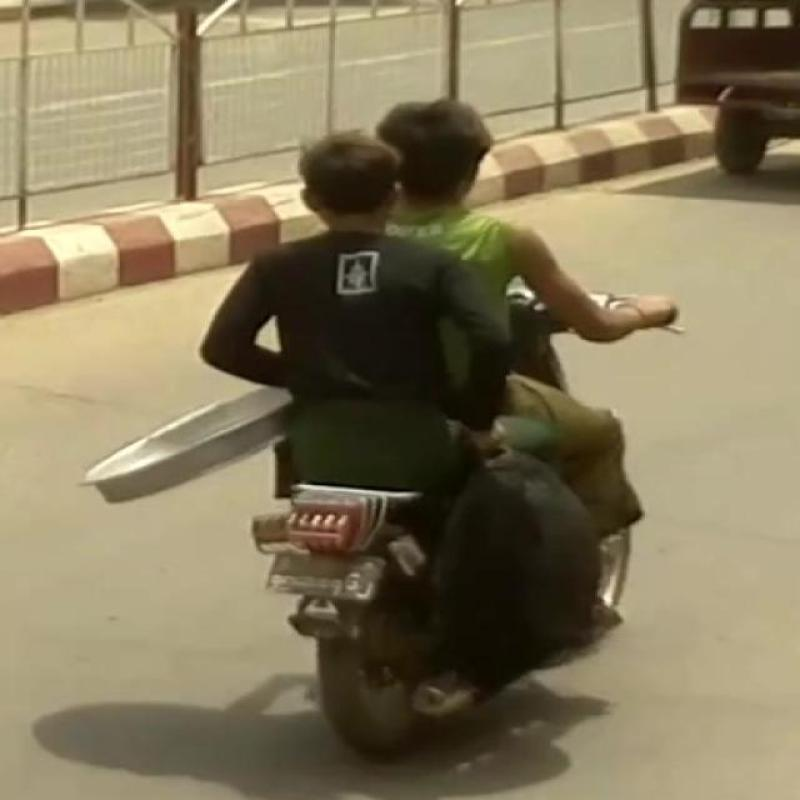nohelmet: (300, 129, 420, 255)
